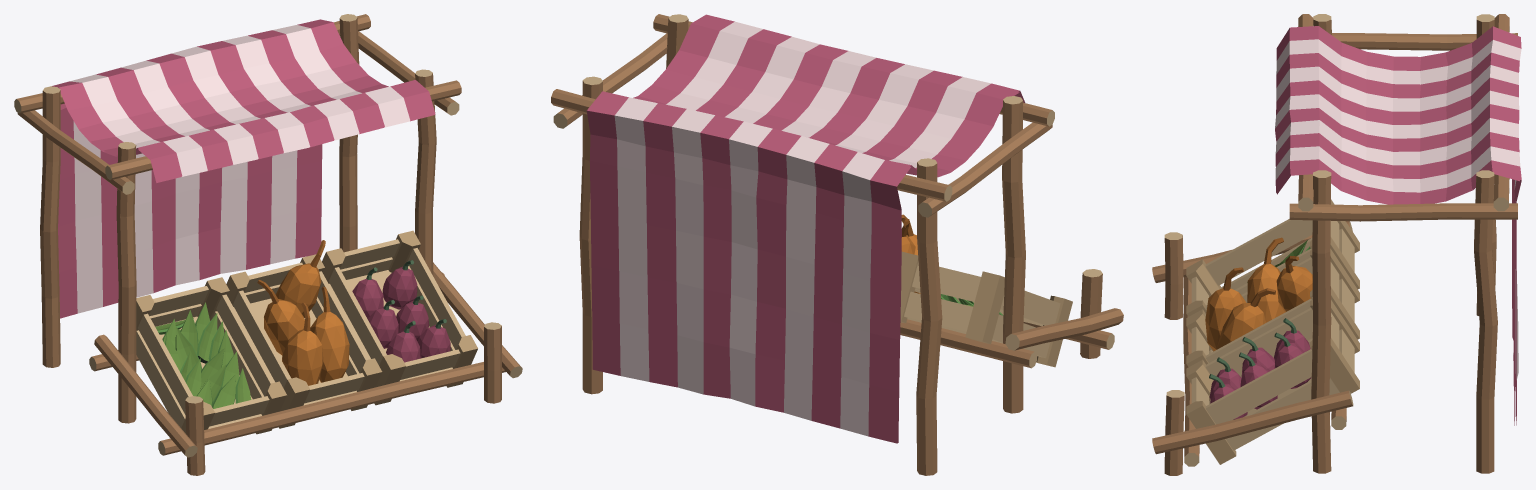
Rendered from Stall07.fbx.
3 views of the same model, side by side, from view 1: azimuth 30°, elevation 25°; view 2: azimuth 150°, elevation 25°; view 3: azimuth 270°, elevation 25° (orthographic). The views are drawn at different scales.
Parts seen in each view (by area): view 1: Stall07; view 2: Stall07; view 3: Stall07.
Boxes of the visible parts, x1=… form: Stall07: x1=14, y1=14, x2=522, y2=475; Stall07: x1=551, y1=14, x2=1123, y2=475; Stall07: x1=1152, y1=14, x2=1521, y2=475.
Size of the model in its own units: 4 by 3.02 by 3.4.
